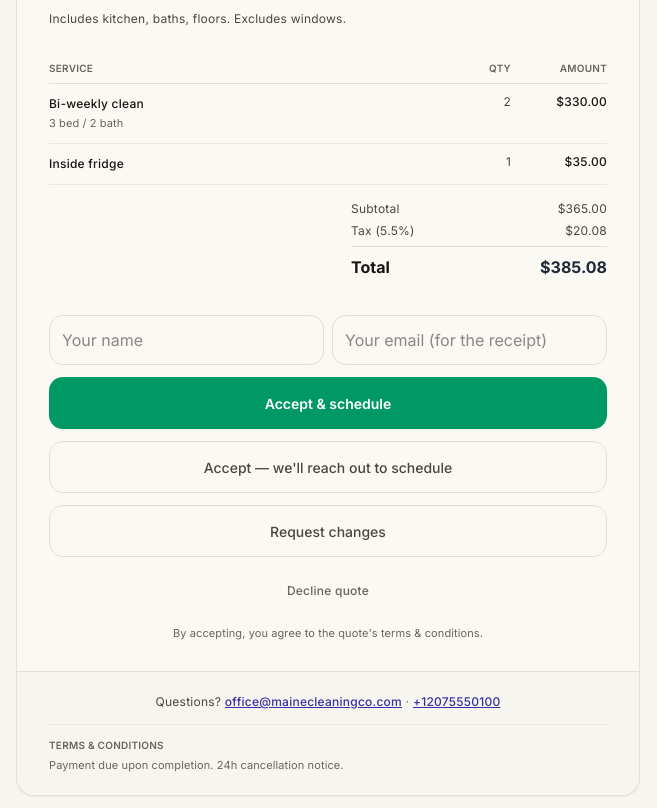
Scenario: PublicQuote self-schedule flow › loads availability, books a slot, and shows a Booked banner
(page scrolled)
Click the button "Accept & schedule" at (328, 403), box [49, 377, 607, 429]
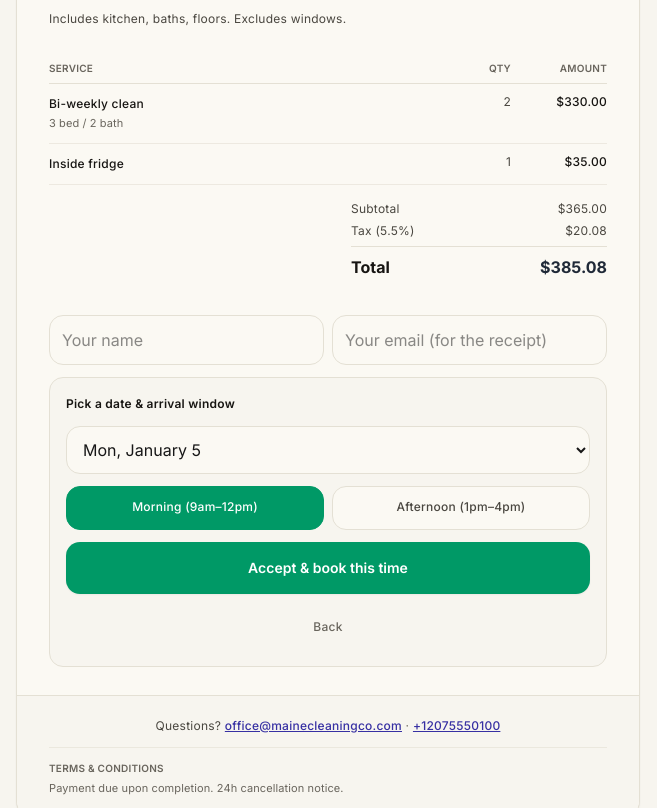
expect the button "Accept & book this time" is shown: met
Click the button "Accept & book this time" at (328, 568), box [66, 542, 590, 594]
(page scrolled)
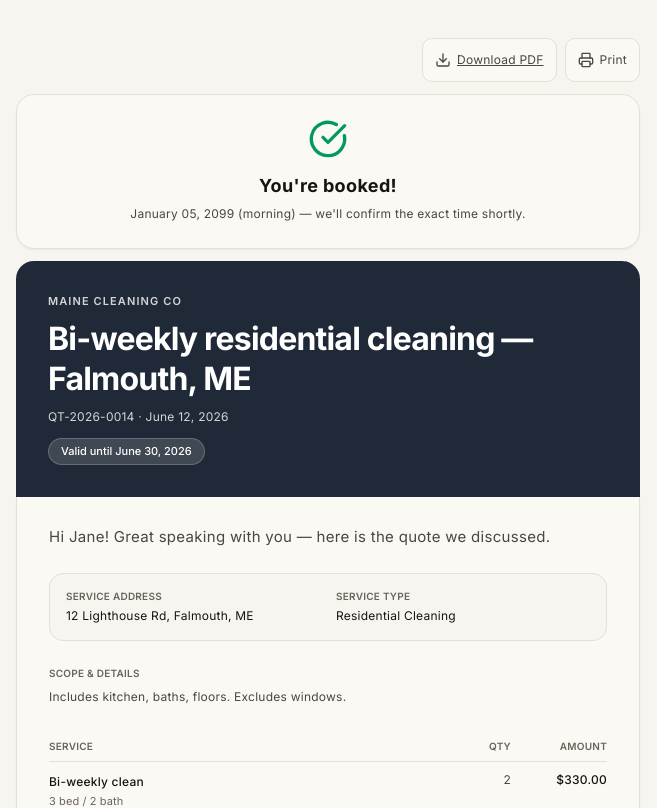
expect the heading "Bi-weekly residential cleaning — Falmouth, ME" is shown: met, box [48, 319, 608, 399]
expect the text "You're booked!" is shown: met, box [259, 175, 397, 196]
expect the text "January 05, 2099" is shown: met, box [130, 206, 234, 221]
